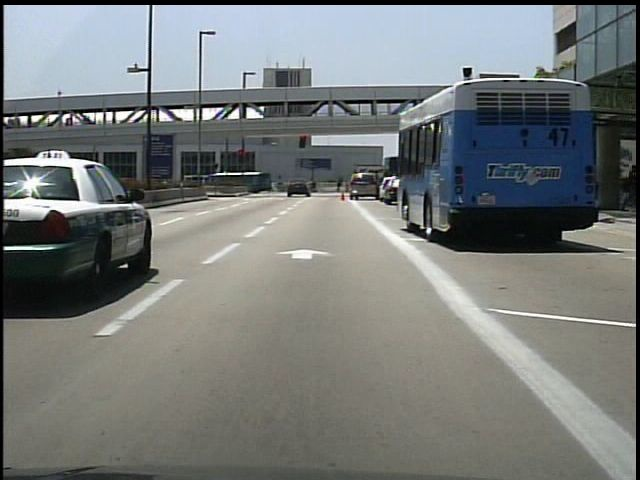person: (619, 166, 636, 212), (309, 181, 319, 195), (334, 179, 343, 194)
